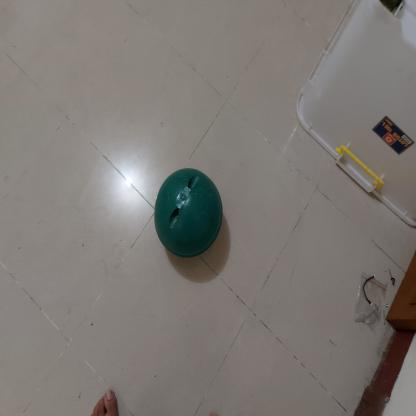green_buoy: (152, 164, 224, 262)
